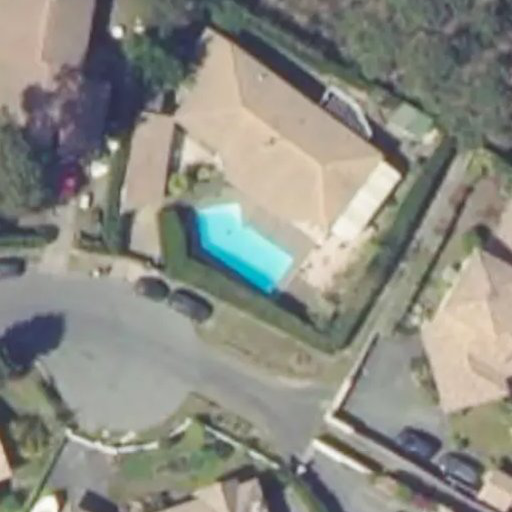pool: (202, 225, 304, 256)
